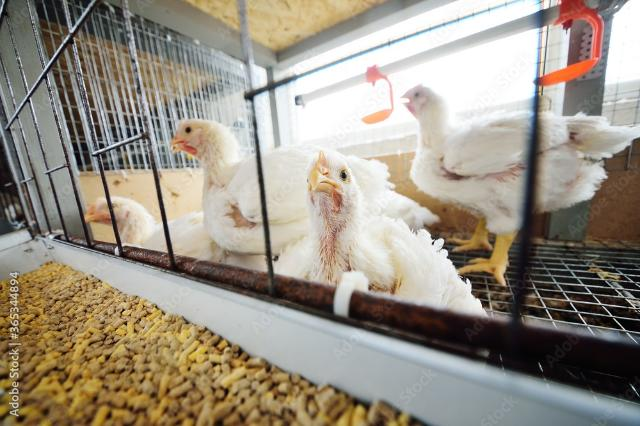Chicken: (401, 84, 640, 287), (168, 115, 442, 255), (273, 149, 487, 319), (82, 193, 216, 261)
